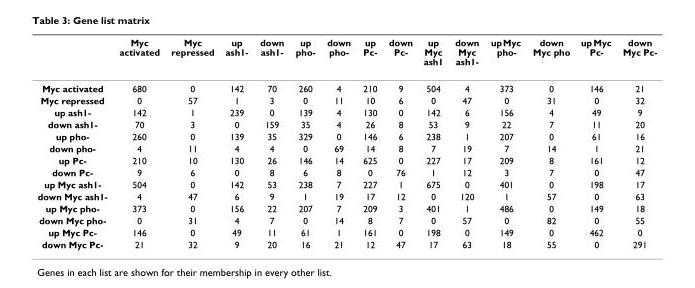table: (36, 36, 656, 249)
table column: (36, 36, 112, 249), (164, 36, 219, 249), (112, 36, 164, 249), (526, 36, 574, 249), (484, 36, 526, 249), (574, 36, 616, 249), (616, 36, 656, 249), (253, 36, 289, 249), (320, 36, 356, 249), (448, 36, 484, 249), (382, 36, 417, 249), (219, 36, 253, 249), (289, 36, 320, 249), (417, 36, 448, 249), (356, 36, 382, 249)
table column header: (36, 36, 656, 74)
table row: (36, 36, 656, 74), (36, 74, 656, 93), (36, 93, 656, 105), (36, 105, 656, 117), (36, 117, 656, 129), (36, 129, 656, 141), (36, 141, 656, 153), (36, 153, 656, 165), (36, 165, 656, 177), (36, 177, 656, 189), (36, 189, 656, 201), (36, 201, 656, 213), (36, 213, 656, 225), (36, 225, 656, 237), (36, 237, 656, 249)
